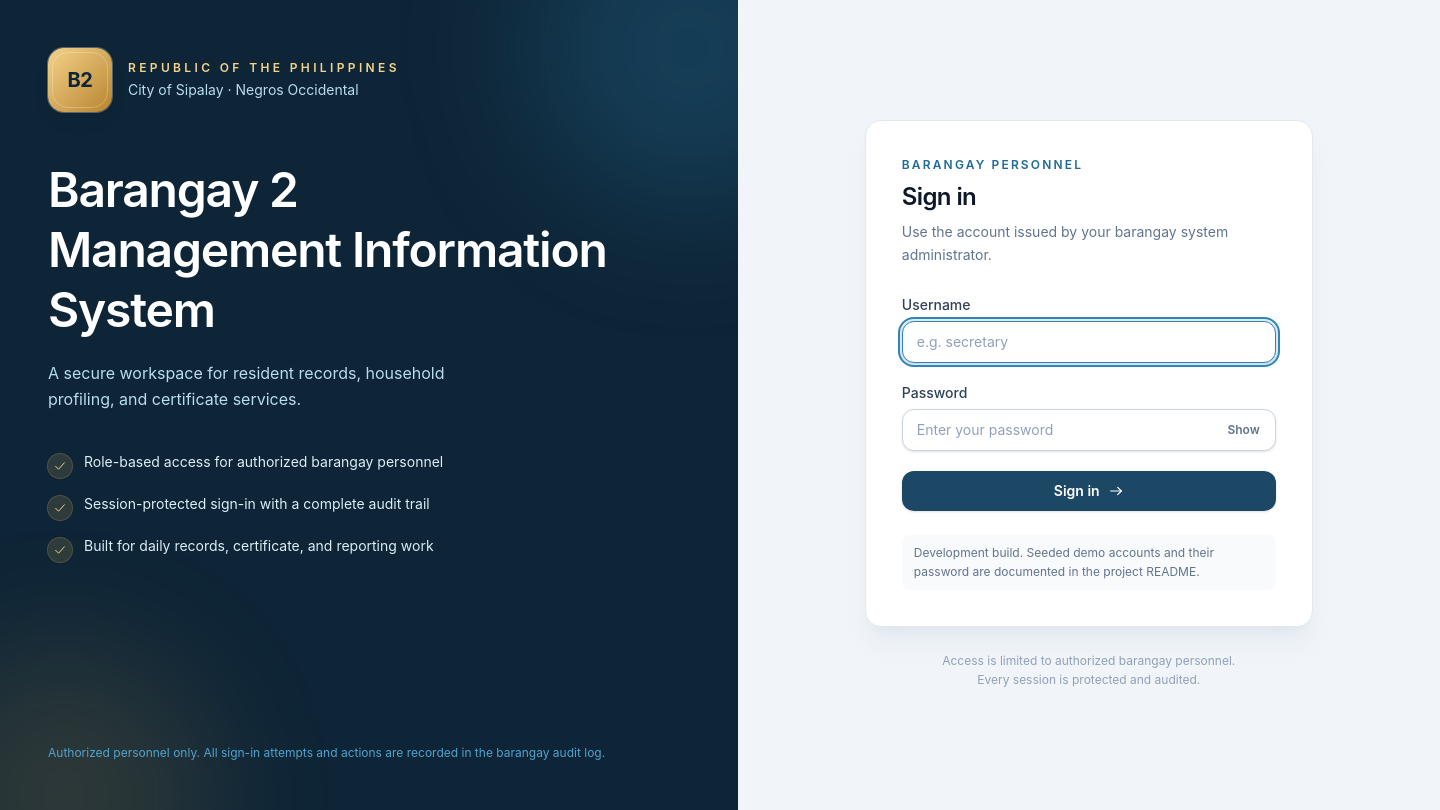
LoginPage › shows the server error when sign-in is rejected
In the field labelled "Username": (1089, 342) [902,321,1276,363], type "secretary"
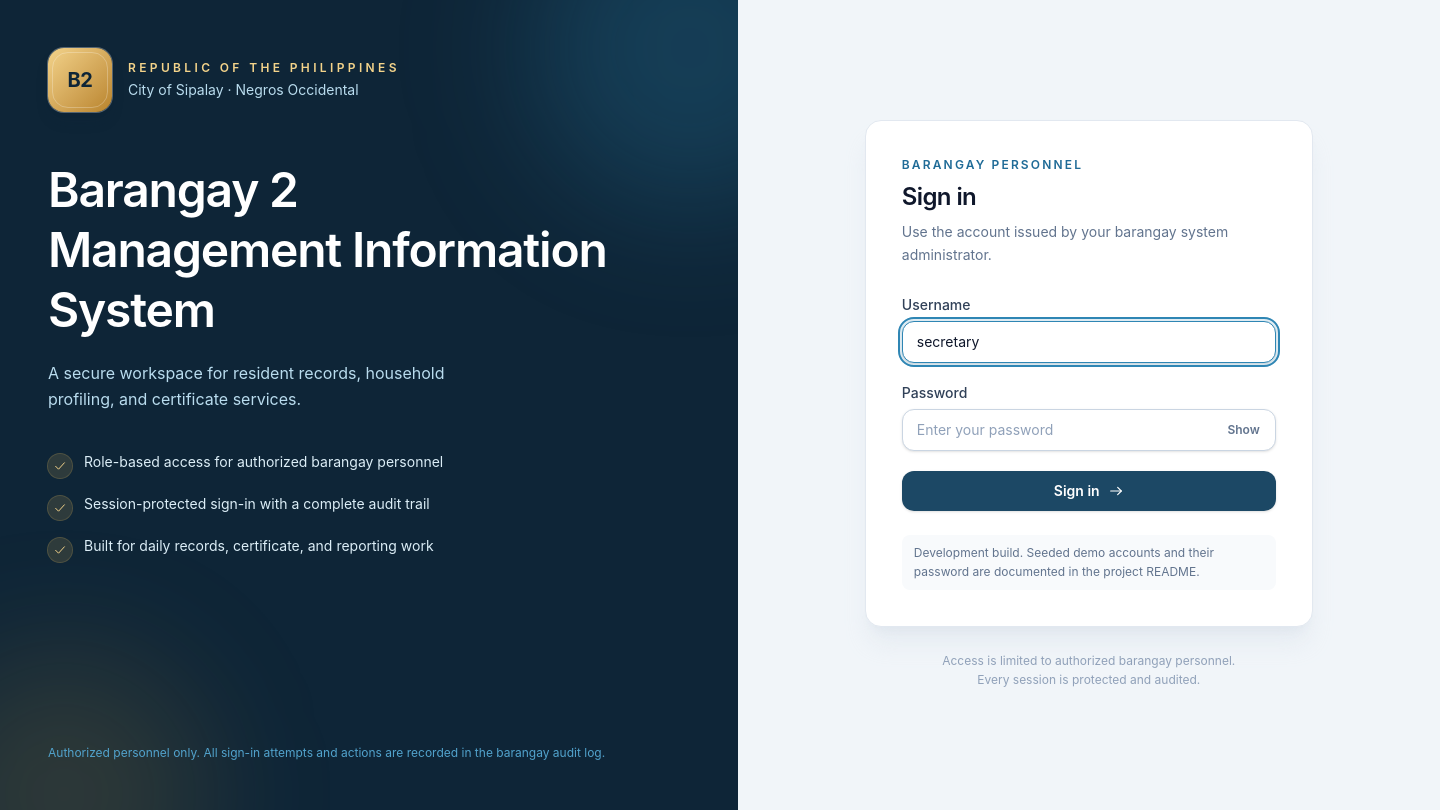
In the password field labelled "Password": (1089, 430) [902,409,1276,451], type "wrong-password"
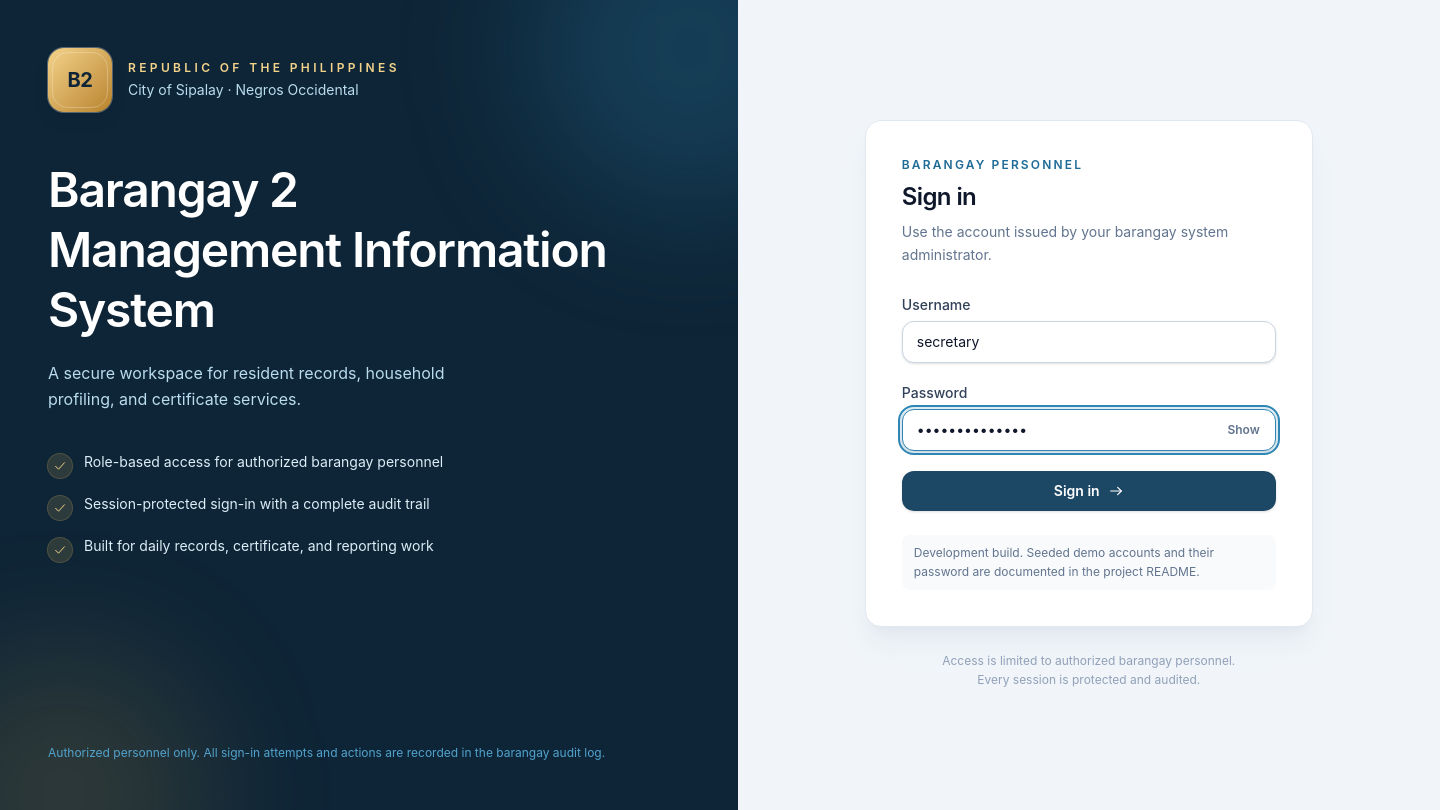
Click the button "Sign in": (1089, 491) [902,471,1276,511]
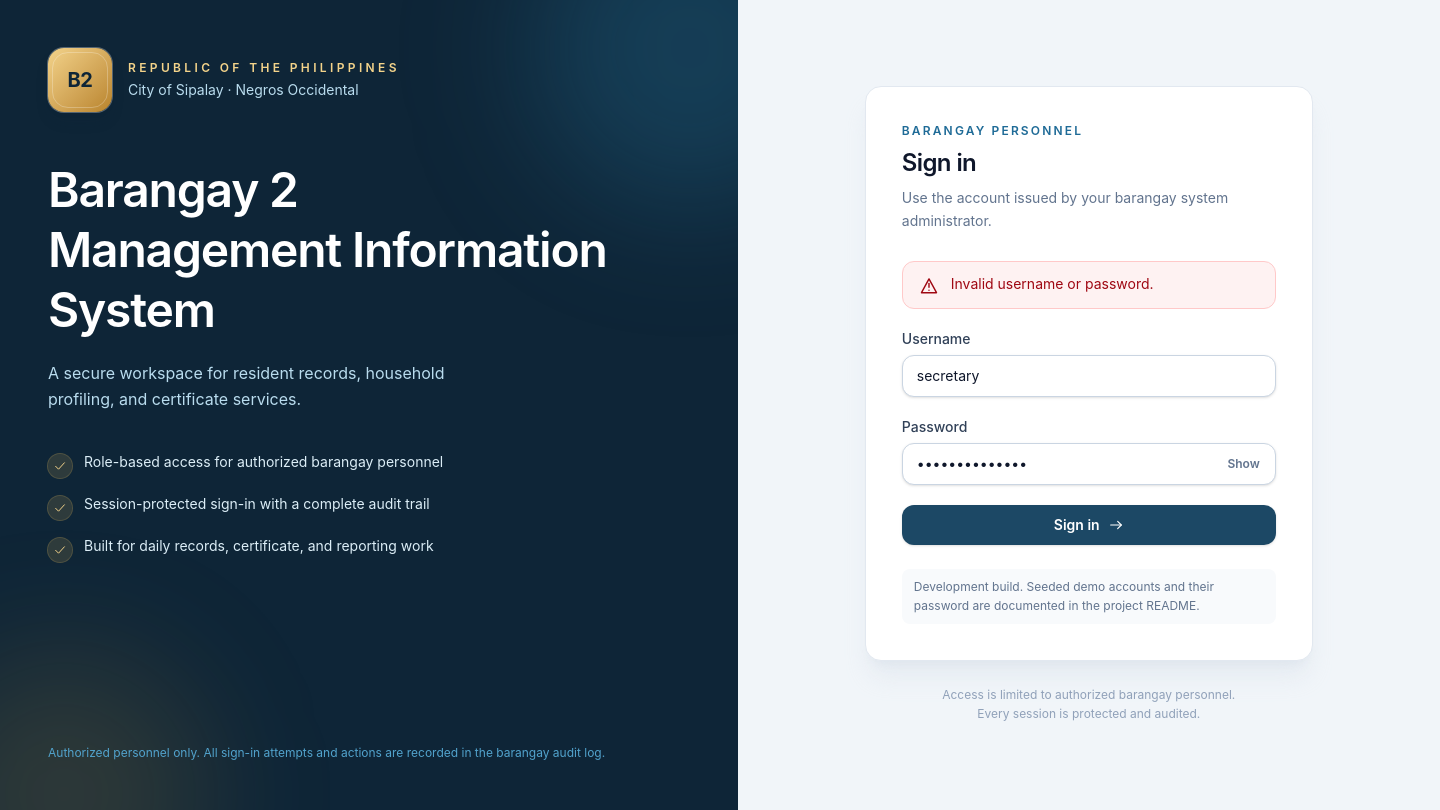
expect the message reads "Invalid username or password.": met, box [951,275,1154,292]
